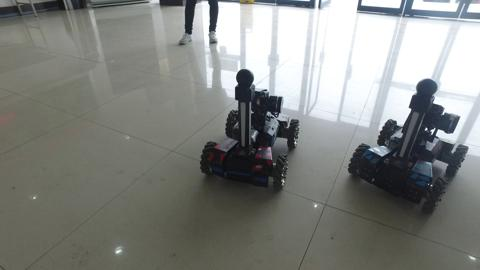chariot: (349, 76, 470, 221), (185, 68, 314, 195)
